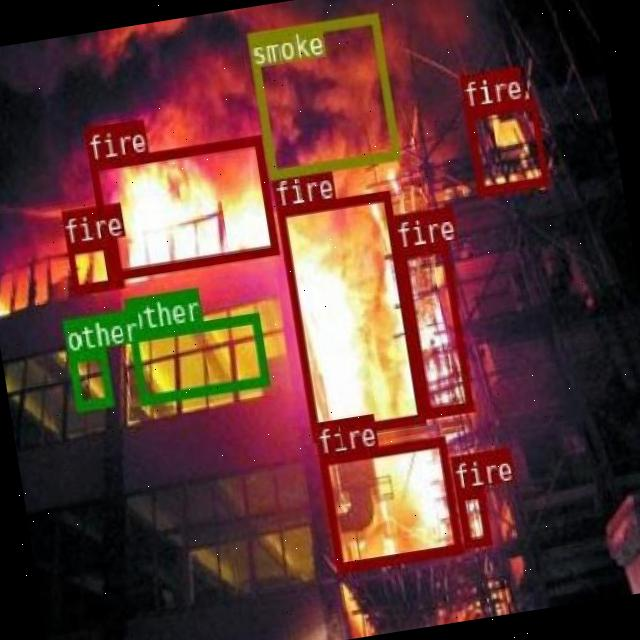fire: (274, 189, 424, 441), (88, 133, 279, 281), (317, 435, 462, 573), (396, 241, 473, 418), (463, 97, 548, 196), (64, 238, 122, 294), (454, 484, 491, 548)
smoke: (246, 10, 398, 178)
